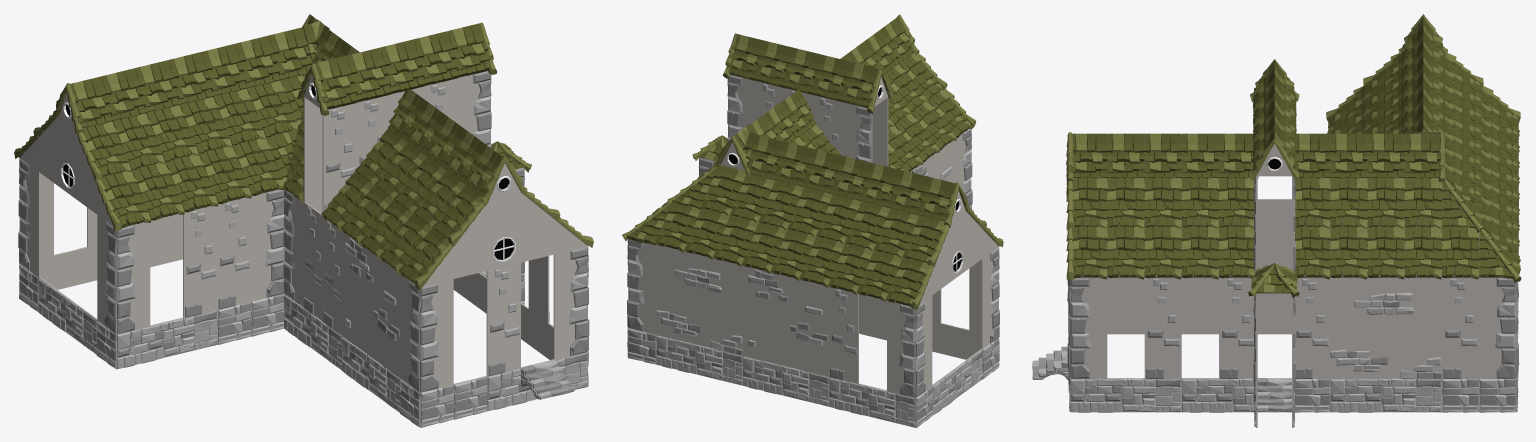
The model's file is HOUSE_12_PARTS.fbx.
3 views of the same model, side by side, from view 1: azimuth 30°, elevation 25°; view 2: azimuth 150°, elevation 25°; view 3: azimuth 270°, elevation 25° (orthographic). The views are drawn at different scales.
Visible parts, largest first — view 1: WALL_01_2, WALL_07_2, WALL_06_3, WALL_06_16, WALL_05_7, FOUNDATION_03_10, WALL_05_2, WALL_06_17, WALL_07_7, WALL_06_11, WALL_05_8, FOUNDATION_03_2 (+80 smaller); view 2: WALL_03_3, WALL_01_3, WALL_06_18, FOUNDATION_03_8, FOUNDATION_03_7, FOUNDATION_03_6, WALL_07_9, WALL_05_9, WALL_07_8, FOUNDATION_03_9, WALL_07_3, WALL_05_8 (+63 smaller); view 3: WALL_03_2, FOUNDATION_03_5, FOUNDATION_03_3, WALL_06_4, WALL_06_20, WALL_05_3, WALL_07_10, WALL_06_15, WALL_06_5, WALL_06_14, FOUNDATION_03_4, FOUNDATION_03_12 (+62 smaller).
Part boxes in pixels (x1,y1,x2,y2): WALL_01_2: (342, 232, 400, 377); WALL_07_2: (553, 246, 588, 359); WALL_06_3: (486, 262, 520, 376); WALL_06_16: (183, 206, 217, 317); WALL_05_7: (116, 222, 150, 333); FOUNDATION_03_10: (116, 310, 217, 369); WALL_05_2: (420, 279, 453, 392); WALL_06_17: (217, 197, 250, 309); WALL_07_7: (251, 189, 284, 301); WALL_06_11: (322, 103, 356, 211); WALL_05_8: (18, 158, 40, 277); FOUNDATION_03_2: (487, 352, 587, 411); WALL_03_3: (656, 244, 743, 355); WALL_01_3: (743, 265, 829, 376); WALL_06_18: (829, 287, 858, 383); FOUNDATION_03_8: (829, 377, 915, 427); FOUNDATION_03_7: (743, 356, 829, 406); FOUNDATION_03_6: (656, 335, 743, 385); WALL_07_9: (887, 300, 915, 397); WALL_05_9: (627, 239, 656, 334); WALL_07_8: (981, 247, 999, 348); FOUNDATION_03_9: (932, 349, 982, 415); WALL_07_3: (843, 102, 872, 162); WALL_05_8: (915, 296, 932, 397); WALL_03_2: (1330, 277, 1441, 378); FOUNDATION_03_5: (1330, 378, 1441, 412); FOUNDATION_03_3: (1070, 378, 1181, 412); WALL_06_4: (1144, 277, 1181, 378); WALL_06_20: (1442, 277, 1479, 378); WALL_05_3: (1070, 277, 1107, 378); WALL_07_10: (1479, 277, 1516, 378); WALL_06_15: (1295, 277, 1330, 378); WALL_06_5: (1219, 277, 1254, 378); WALL_06_14: (1257, 199, 1291, 300); FOUNDATION_03_4: (1181, 378, 1291, 412); FOUNDATION_03_12: (1107, 301, 1218, 334).
Bounding box in the file's own units: 1132 × 814 × 1316.
